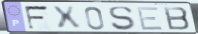0: (84, 6, 107, 31)
B: (162, 6, 192, 31)
E: (136, 6, 165, 31)
F: (23, 5, 52, 31)
S: (108, 6, 136, 32)
X: (50, 5, 84, 31)
